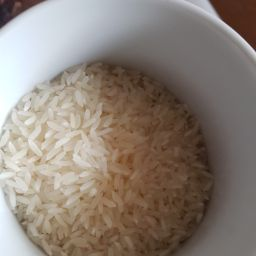Basmati rice: (1, 9, 256, 253)
